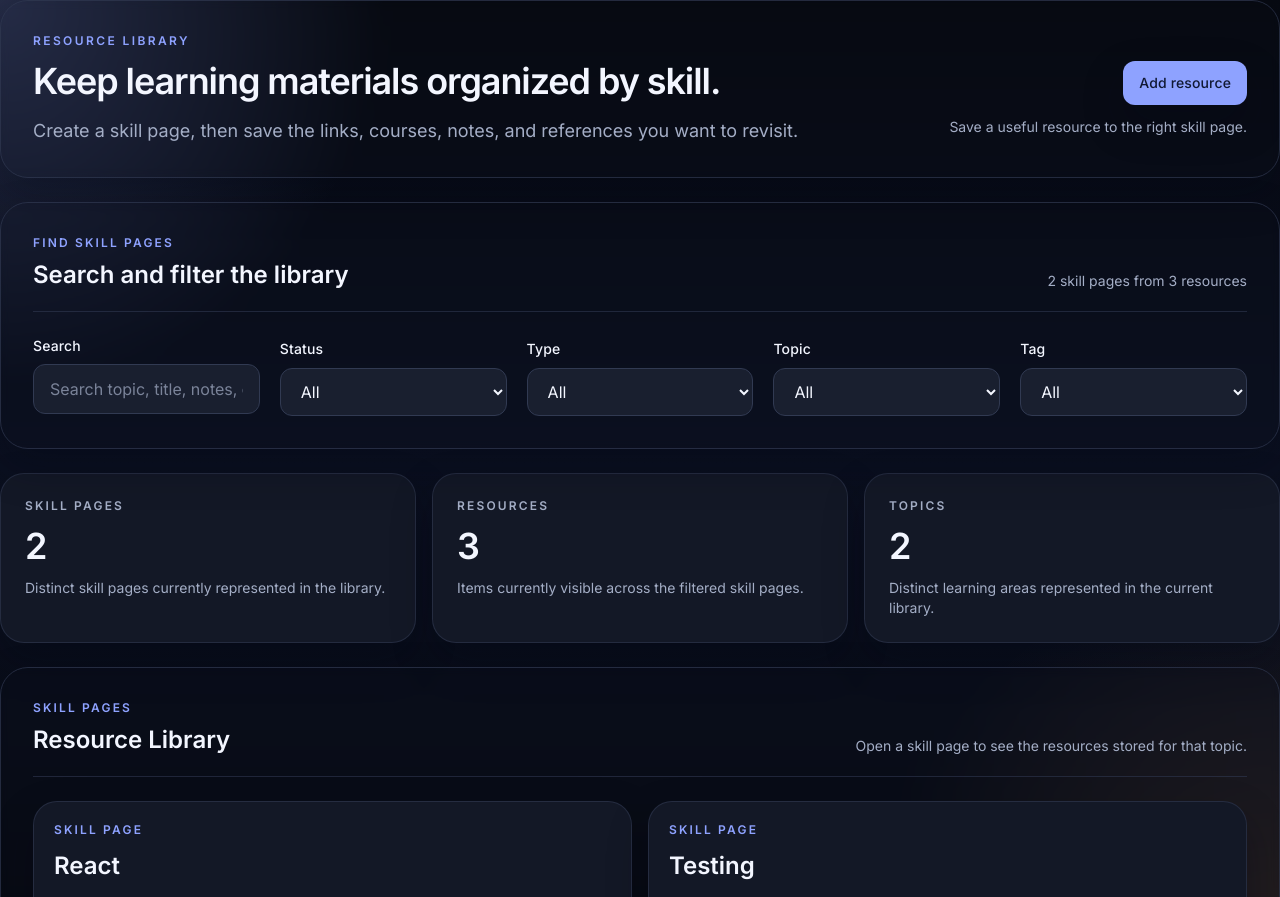
Test case: ResourcesPage › filters the library by search, status, type, topic, and tag
Expected: the heading "Resource Library" is shown, top-left (33, 724), bottom-right (230, 756)
Type "hook" into the field labelled "Search" at point(146, 389), box top-left (33, 364), bottom-right (260, 414)
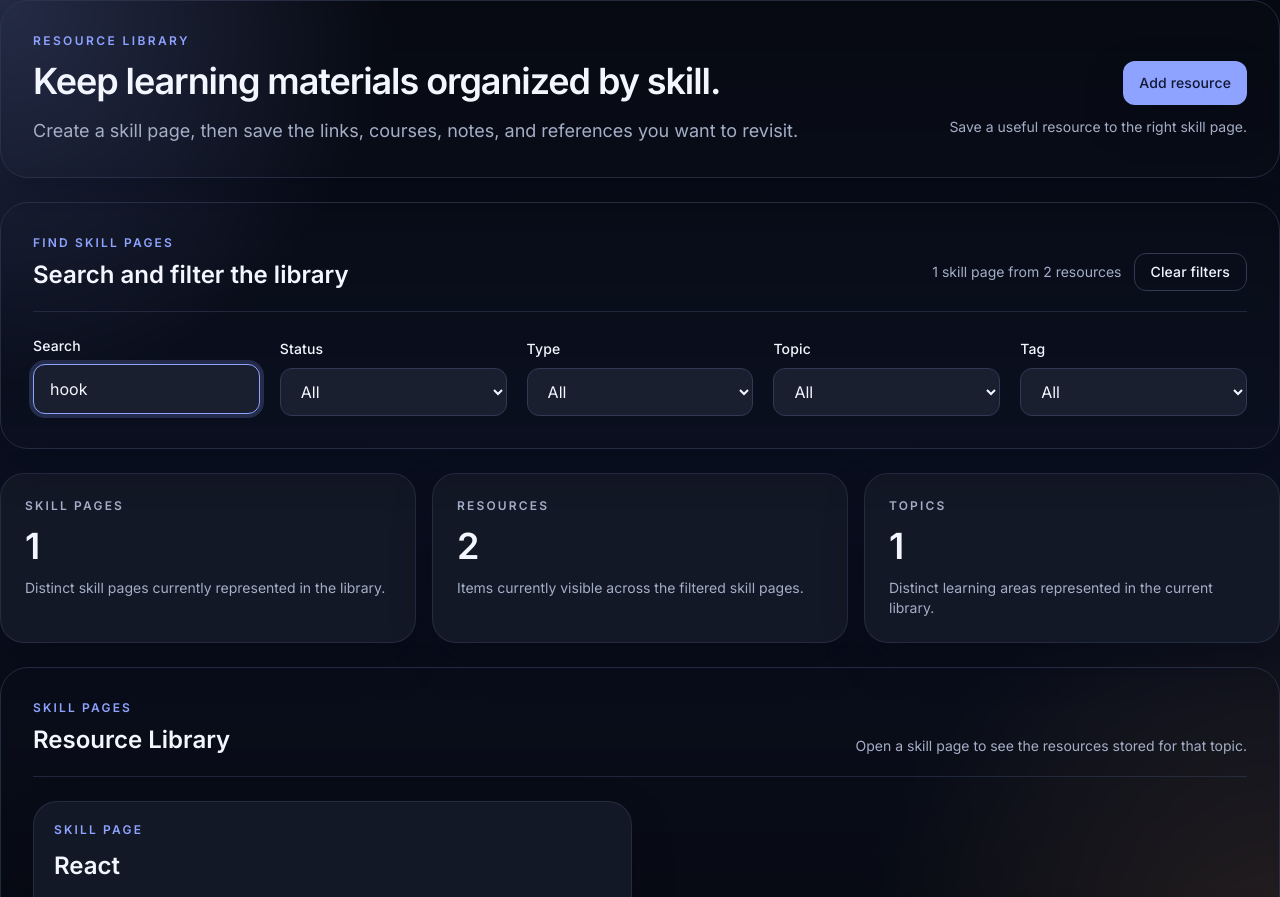
Expected: the link "Testing" is gone
Expected: the text "1 skill page from 2 resources" is shown, top-left (932, 262), bottom-right (1122, 282)
Select "completed" in the dropdown labelled "Status" at point(393, 392), box top-left (280, 368), bottom-right (507, 416)
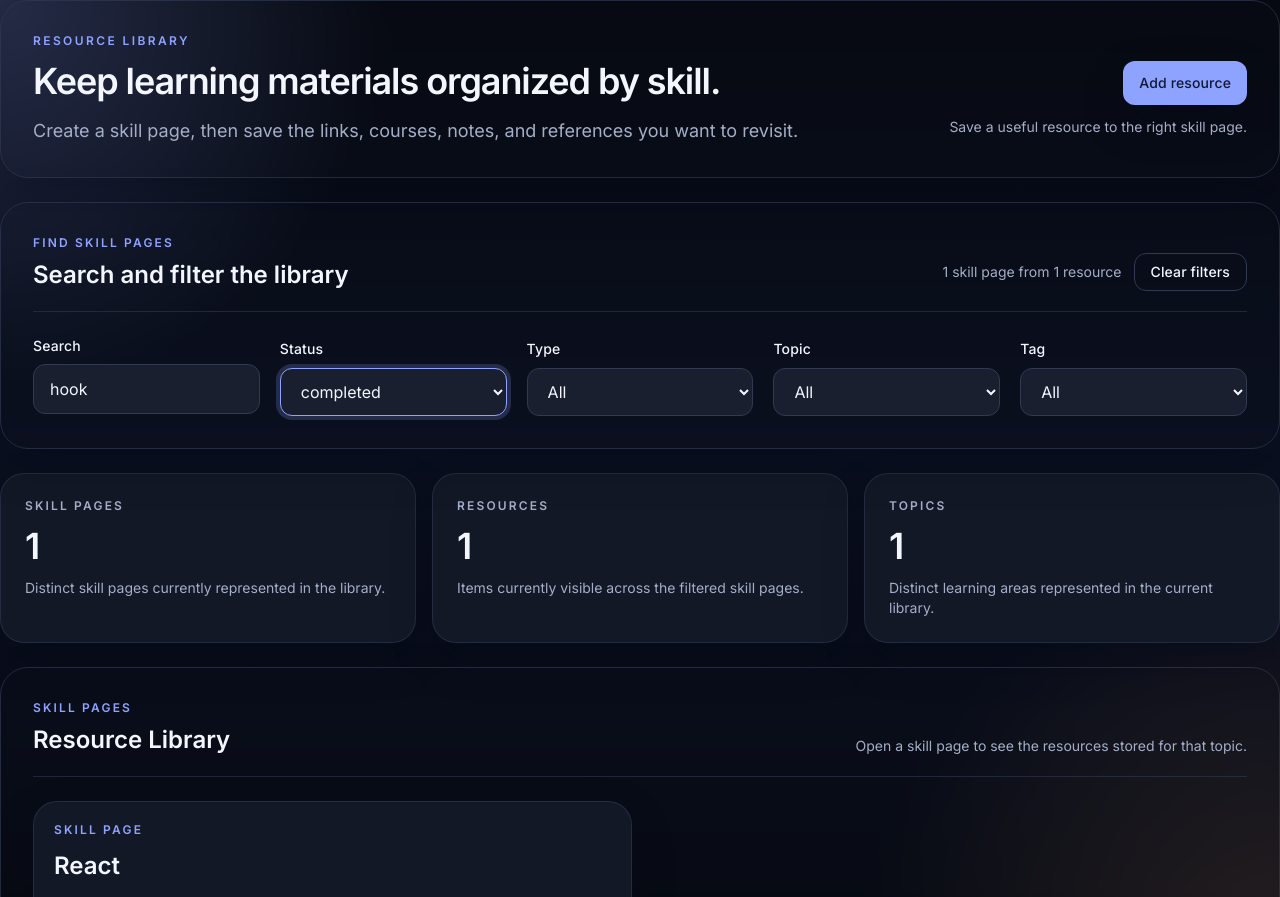
Expected: the text "1 skill page from 1 resource" is shown, top-left (942, 262), bottom-right (1122, 282)
Select "video" in the dropdown labelled "Type" at point(640, 392), box top-left (527, 368), bottom-right (753, 416)
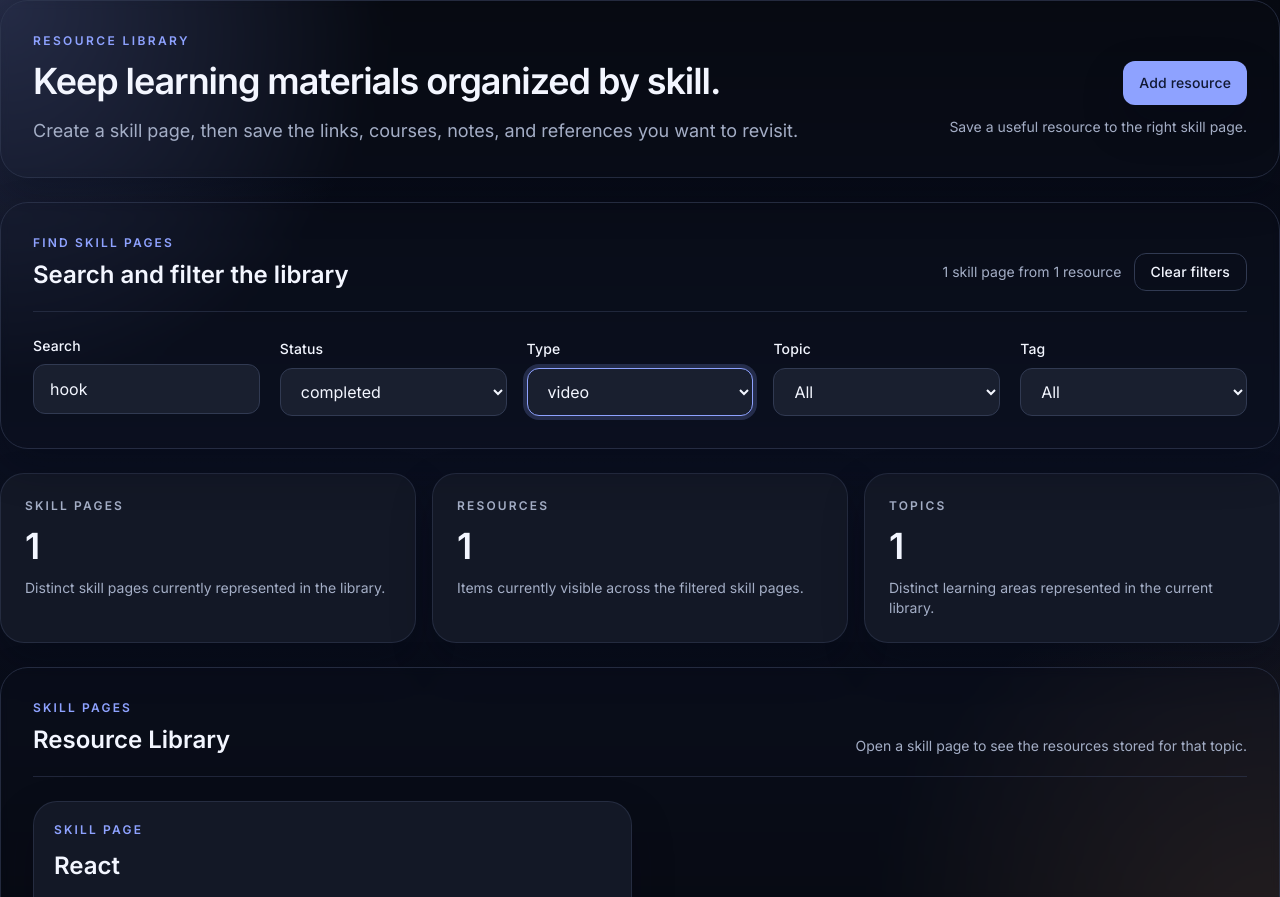
Select "React" in the dropdown labelled "Topic" at point(887, 392), box top-left (773, 368), bottom-right (1000, 416)
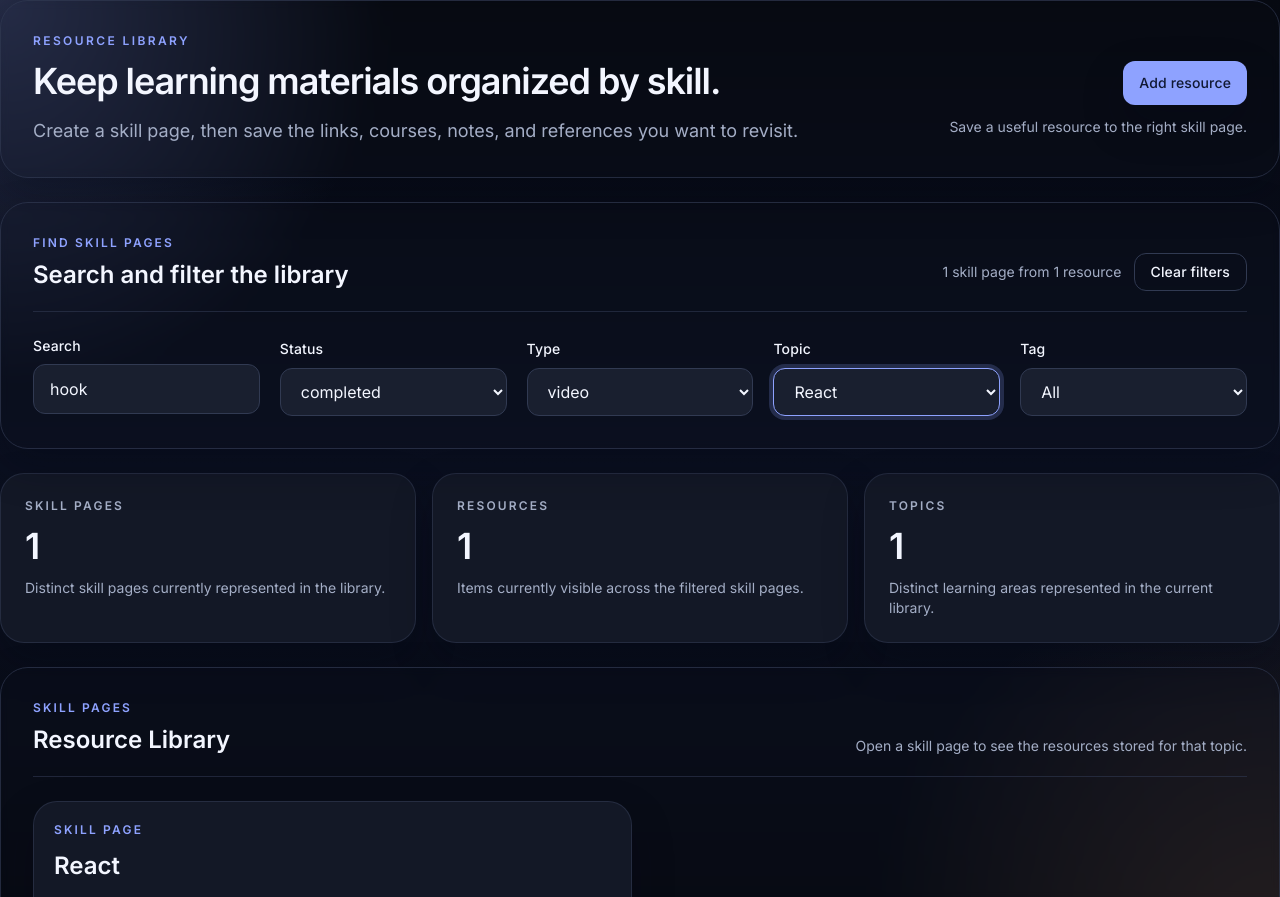
Select "hooks" in the dropdown labelled "Tag" at point(1134, 392), box top-left (1020, 368), bottom-right (1247, 416)
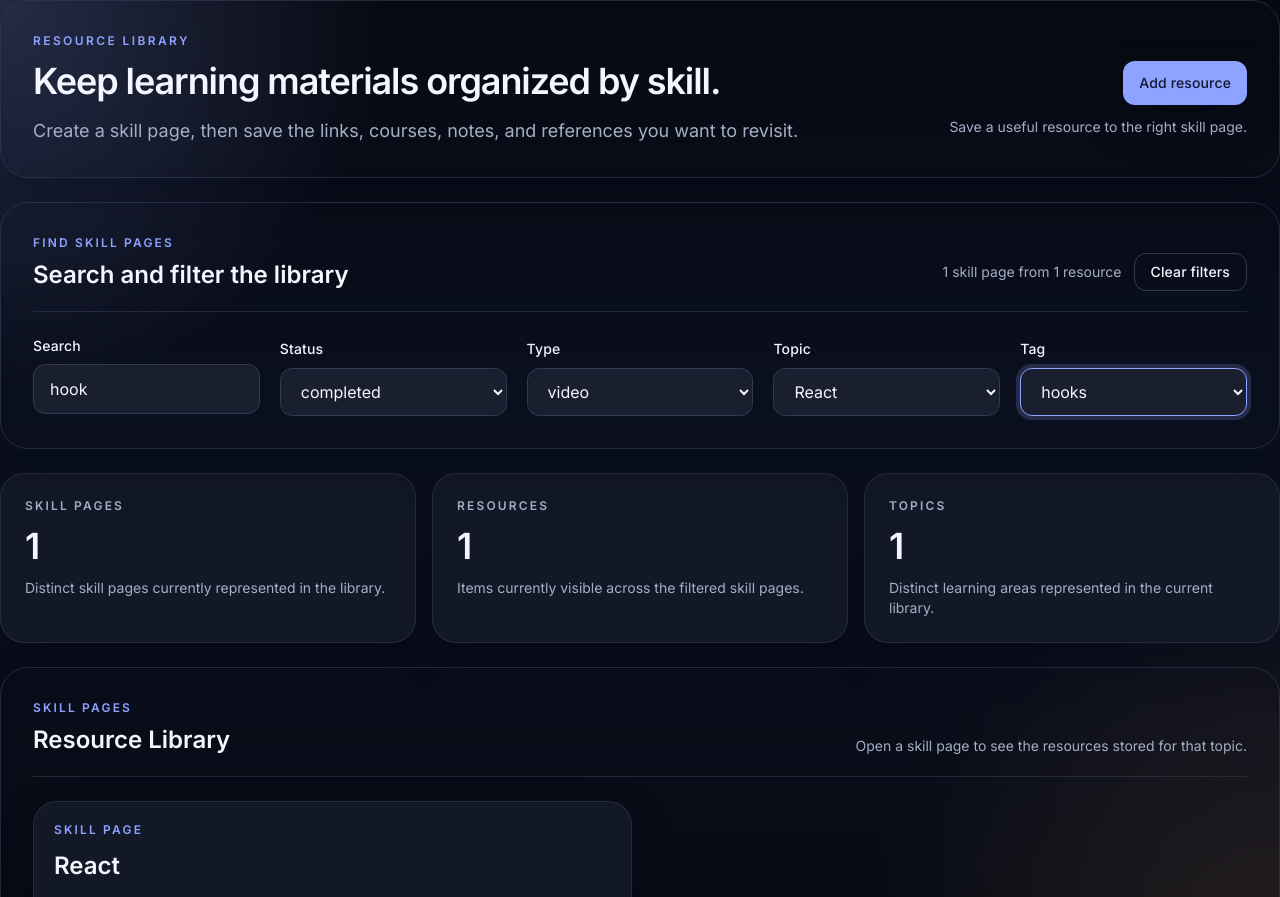
Expected: the link "Testing" is not shown
Click the button "Clear filters" at point(1190, 272), box top-left (1134, 253), bottom-right (1247, 291)
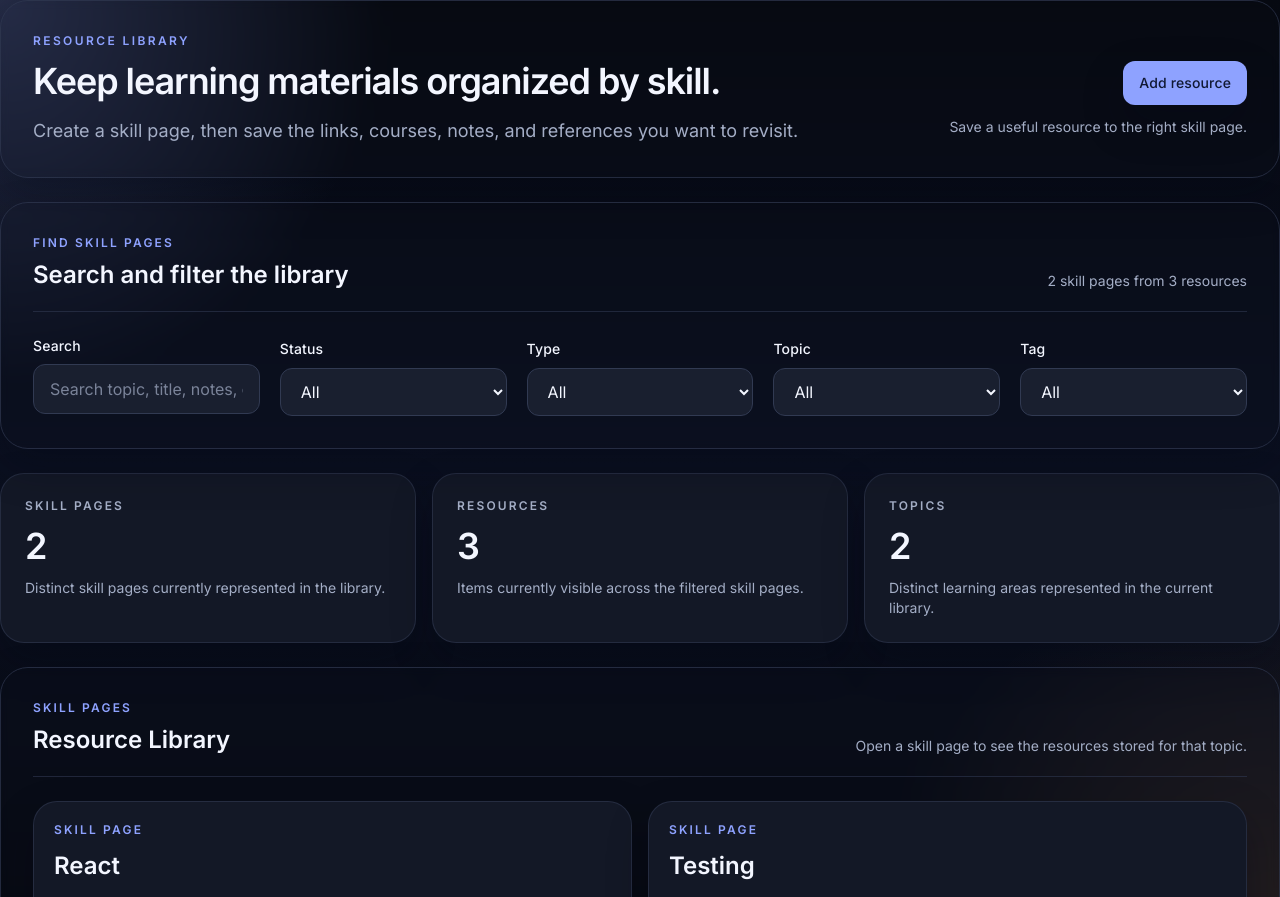
Expected: the text "2 skill pages from 3 resources" is shown, top-left (1047, 271), bottom-right (1247, 291)
